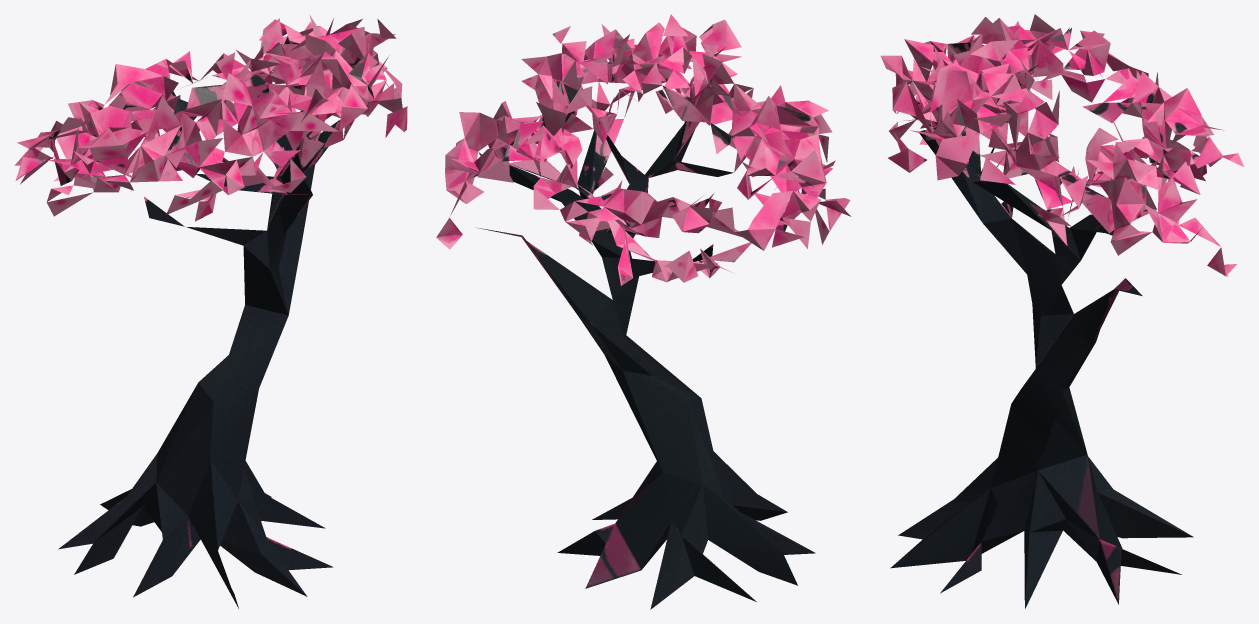
File: sakura.glb
The picture shows the model from 3 angles, left to right: view 1: azimuth 30°, elevation 25°; view 2: azimuth 150°, elevation 25°; view 3: azimuth 270°, elevation 25°; orthographic projection. The views are drawn at different scales.
Size of the model in its own units: 1.43 by 1.86 by 1.1.
1 material, 1 textured.
